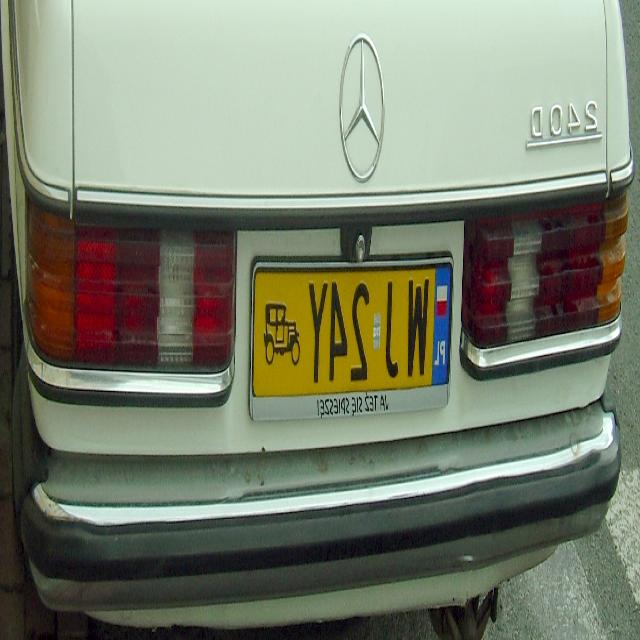pl_license_plate: (252, 265, 453, 397)
